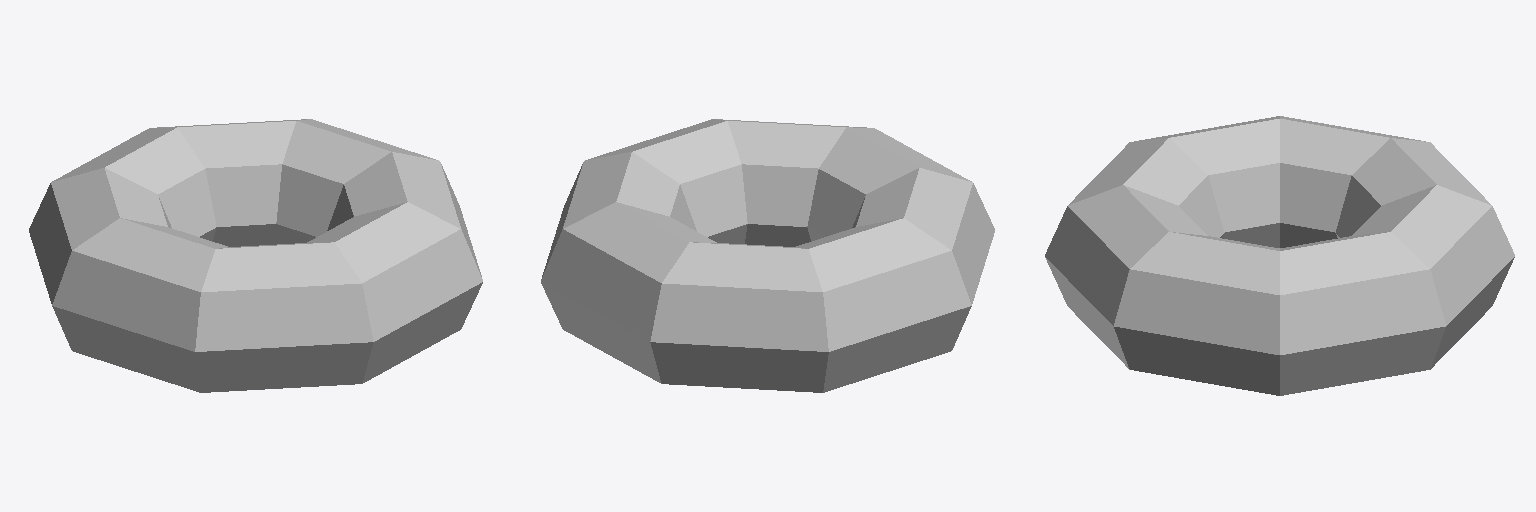
The model's file is octahedron.obj.
3 views of the same model, side by side, from view 1: azimuth 30°, elevation 25°; view 2: azimuth 150°, elevation 25°; view 3: azimuth 270°, elevation 25° (orthographic).
Bounding box in the file's own units: 12 × 4 × 12.